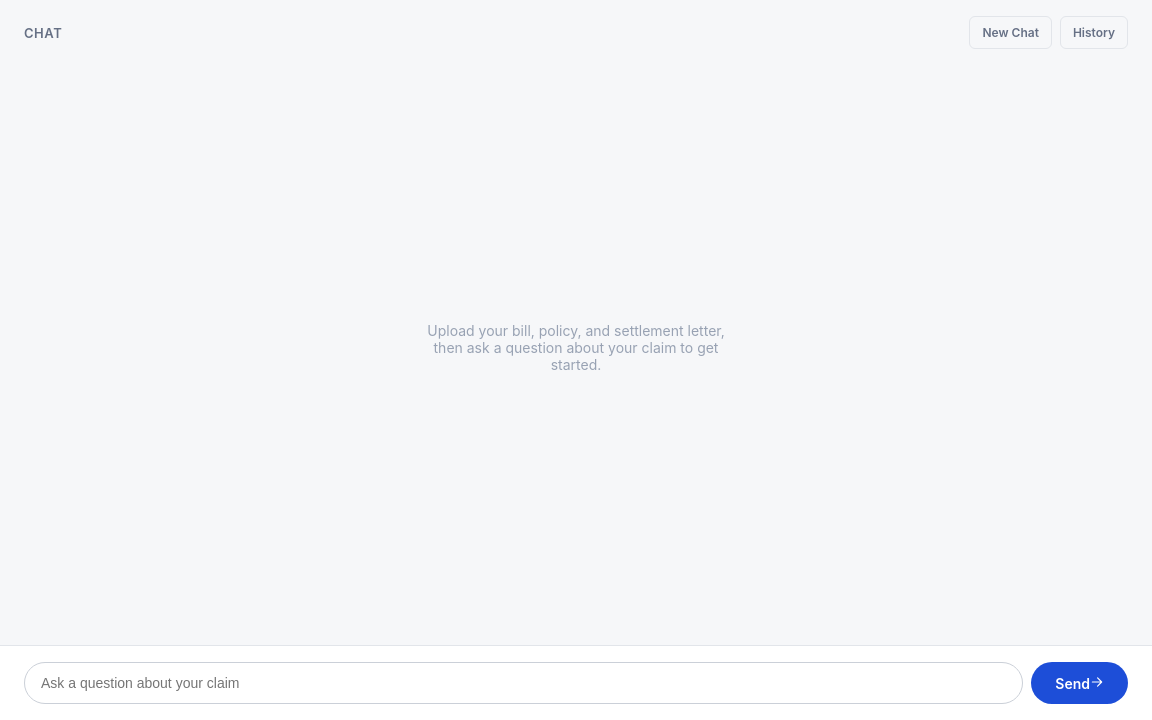
Scenario: ChatPanel › shows an error message when streaming the response fails
The width and height of the screenshot is (1152, 720).
In the field with placeholder "Ask a question about your claim": (524, 683) [24,662,1023,704], type "Why?"
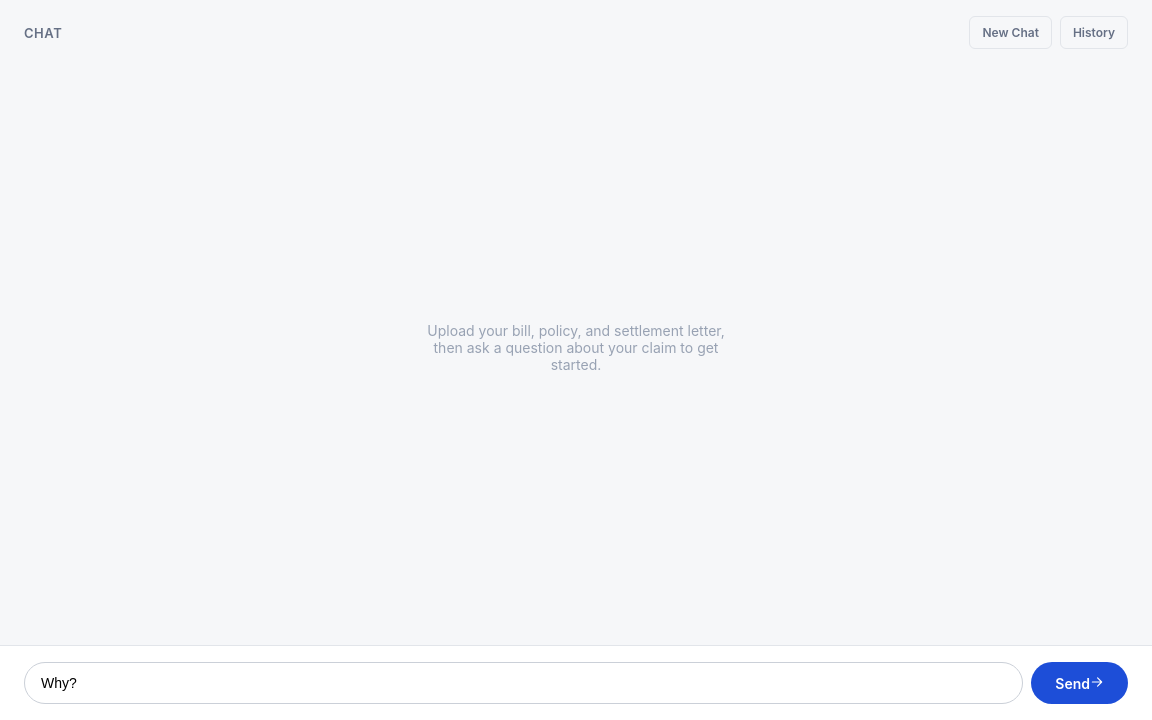
Click the button "Send": (1080, 683) [1031,662,1128,704]
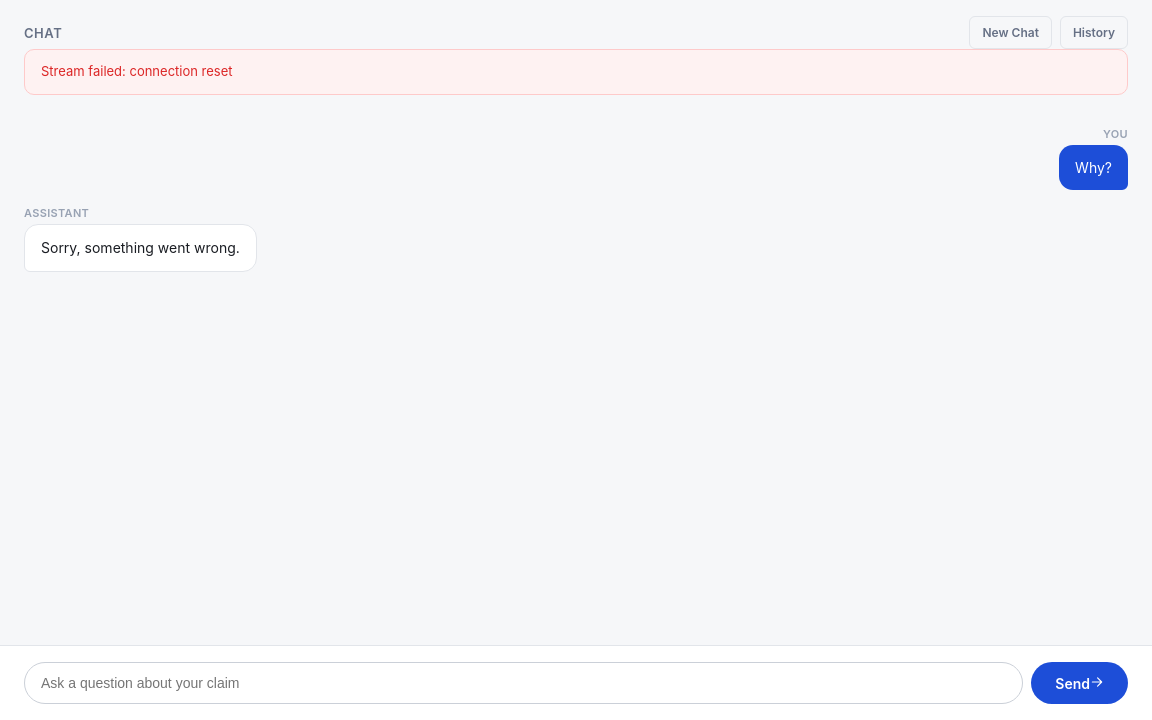
Check: the message reads "Stream failed: connection reset", box [41,63,232,79]
Check: the text "Sorry, something went wrong." is shown, box [41,237,240,259]
